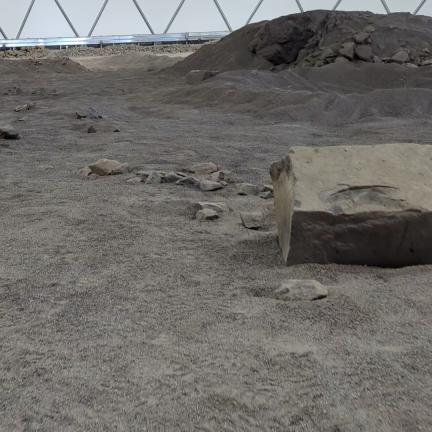Rock: (270, 144, 431, 267), (275, 280, 327, 300), (89, 159, 123, 175), (186, 70, 218, 84), (240, 212, 262, 229), (190, 163, 217, 175), (206, 170, 232, 182), (236, 183, 259, 195), (0, 125, 19, 139), (355, 45, 371, 61), (339, 43, 354, 60), (196, 209, 219, 220), (200, 180, 223, 191), (249, 30, 260, 52), (176, 177, 200, 186), (112, 164, 131, 175), (146, 171, 161, 184), (137, 170, 153, 182), (353, 32, 369, 44), (392, 52, 409, 63), (165, 172, 182, 182), (411, 51, 431, 59), (320, 49, 336, 59), (15, 104, 35, 111), (261, 185, 273, 193), (259, 192, 272, 199), (362, 26, 375, 33), (305, 42, 317, 49), (334, 57, 348, 63), (127, 177, 141, 182), (76, 112, 86, 119), (88, 125, 96, 133), (364, 38, 372, 46), (315, 60, 324, 67), (326, 23, 333, 31), (420, 60, 431, 65), (404, 64, 417, 68), (219, 181, 227, 186), (390, 25, 397, 29), (337, 25, 344, 29), (252, 70, 258, 74), (2, 92, 9, 95), (113, 128, 119, 131), (98, 115, 103, 118), (62, 60, 65, 65), (173, 51, 175, 53)
